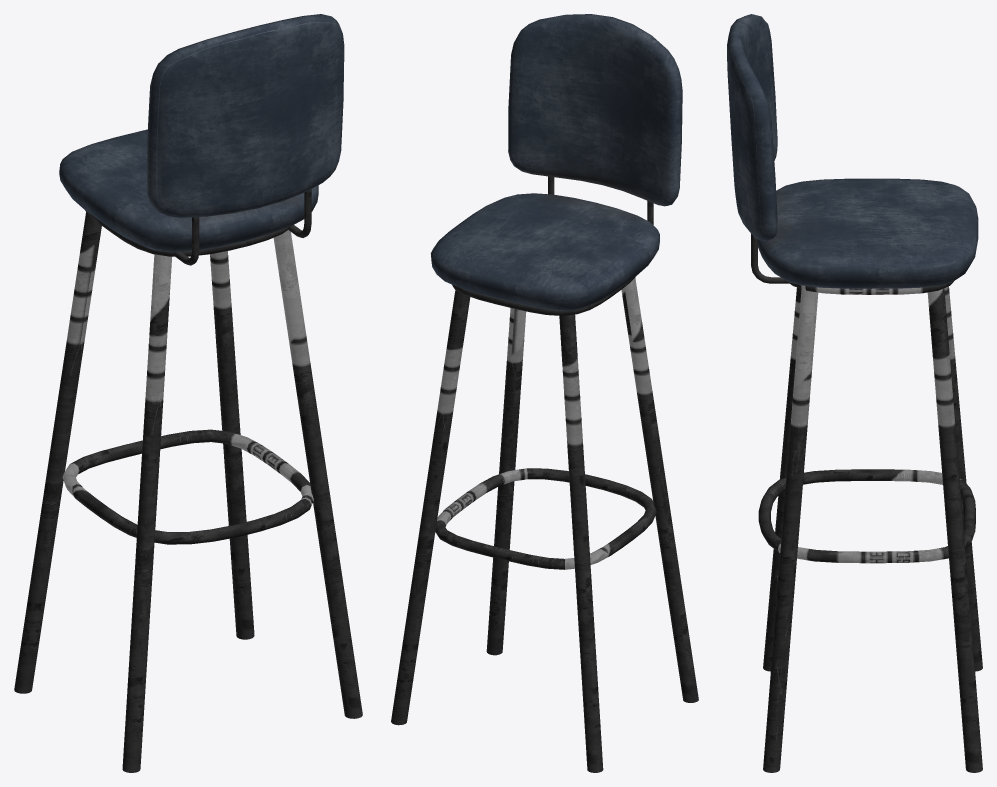
Rendered from SM_BarChairBlue1.fbx.
The picture shows the model from 3 angles, left to right: view 1: azimuth 30°, elevation 25°; view 2: azimuth 150°, elevation 25°; view 3: azimuth 270°, elevation 25°; orthographic projection. The views are drawn at different scales.
Visible parts, largest first — view 1: SM_BarChairBlue1_LOD0; view 2: SM_BarChairBlue1_LOD0; view 3: SM_BarChairBlue1_LOD0.
Boxes of the visible parts, left/top/right/bottom form: SM_BarChairBlue1_LOD0: left=14, top=14, right=362, bottom=772; SM_BarChairBlue1_LOD0: left=391, top=14, right=698, bottom=772; SM_BarChairBlue1_LOD0: left=727, top=14, right=982, bottom=772.
Size of the model in its own units: 32.92 by 32.74 by 96.6.
Materials: 1 (1 with a texture image).
